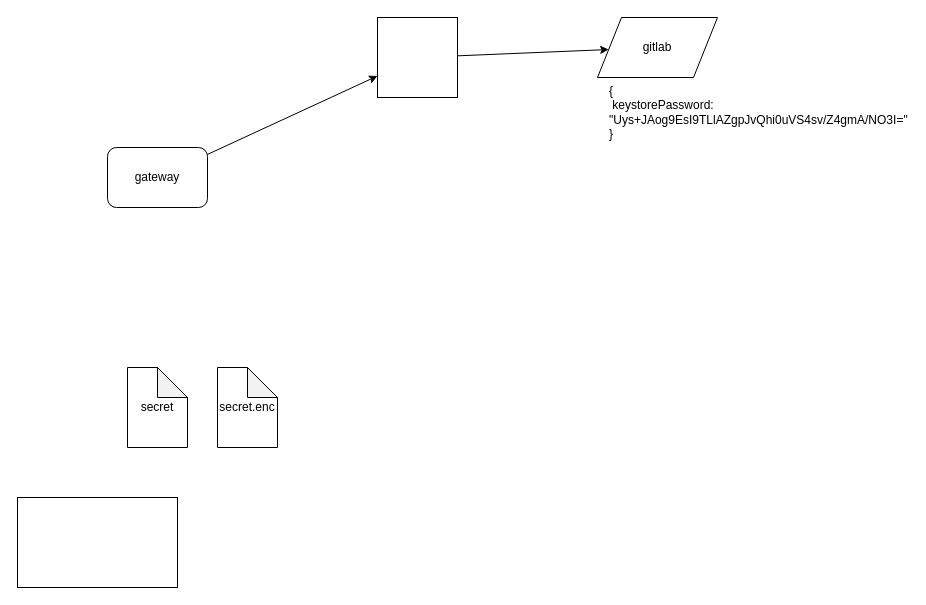
Image size: 926x605. Some labels were removed from this diagram. The shapes that lost their labels are listed below. From the top down, each one's centre as x and y in pixels, then its label:
(417,57): config server
(97,542): Class + field: Type + method(): Type
